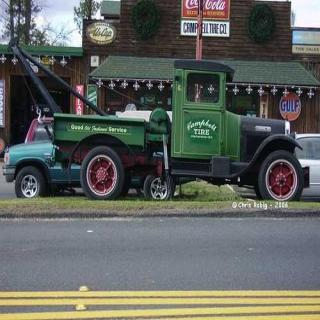Towing_truck: (5, 36, 306, 203)
